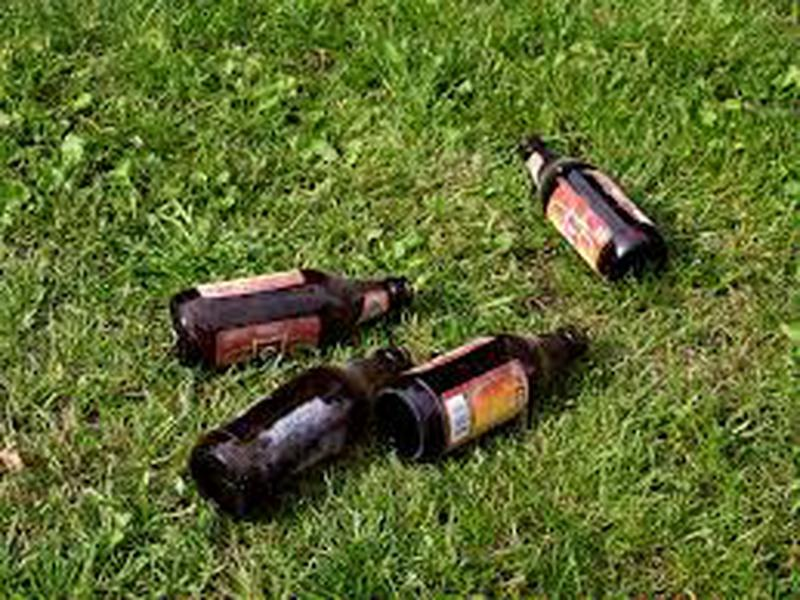bottle: (185, 345, 410, 524), (371, 324, 588, 465), (158, 263, 418, 375), (502, 129, 671, 286)
